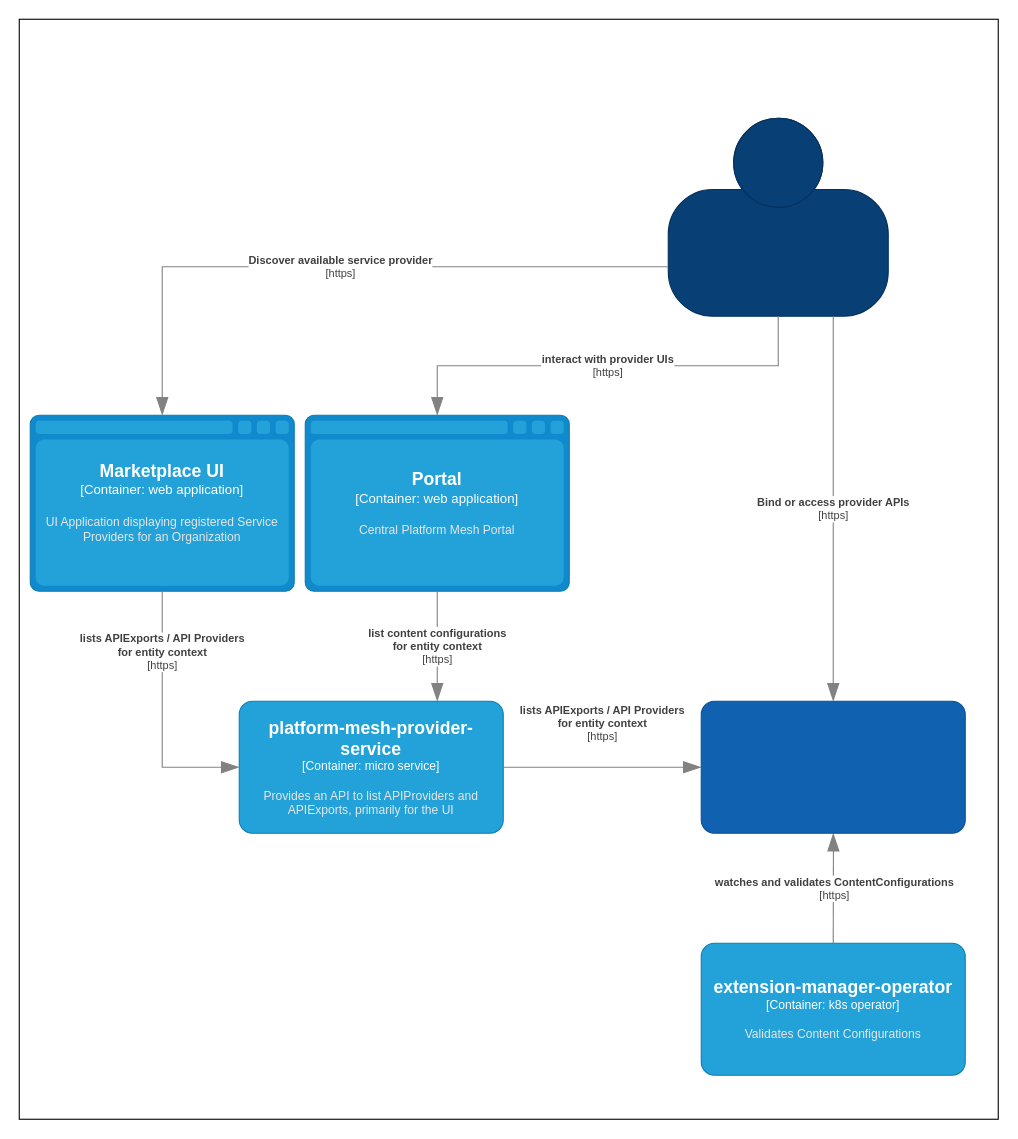
Some shapes in this 1018 by 1139 pixel diagram are drawn without their labels. Each missing label, with the centre of its shape:
"kcp [Software System] Provides KRM Control Planes" belongs at (x=832, y=766).
"User [Person] A User or Operator accessing the Platform" belongs at (x=777, y=216).
